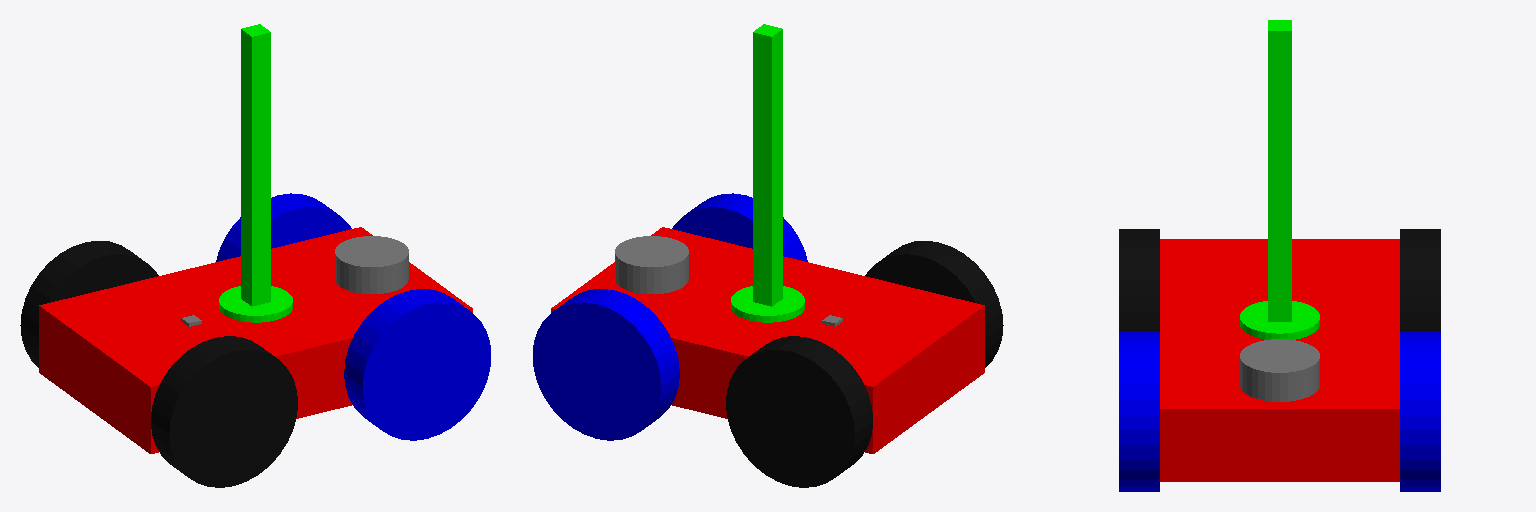
URDF robot description (my_mobile_manipulator):
<?xml version="1.0" ?>
<!-- =================================================================================== -->
<!-- |    This document was autogenerated by xacro from robot.urdf.xacro               | -->
<!-- |    EDITING THIS FILE BY HAND IS NOT RECOMMENDED                                 | -->
<!-- =================================================================================== -->
<robot name="my_mobile_manipulator">
  <link name="base_link"/>
  <link name="base_footprint"/>
  <joint name="base_footprint_joint" type="fixed">
    <parent link="base_footprint"/>
    <child link="base_link"/>
    <origin xyz="0 0 0.1"/>
  </joint>
  <joint name="chassis_joint" type="fixed">
    <parent link="base_link"/>
    <child link="chassis"/>
    <origin xyz="-0.1 0 0"/>
  </joint>
  <link name="chassis">
    <visual>
      <geometry>
        <box size="0.5 0.3 0.1"/>
      </geometry>
      <material name="red">
        <color rgba="1.0 0.0 0.0 1.0"/>
      </material>
    </visual>
    <collision>
      <geometry>
        <box size="0.5 0.3 0.1"/>
      </geometry>
    </collision>
    <inertial>
      <mass value="5.0"/>
      <inertia ixx="0.1" ixy="0" ixz="0" iyy="0.1" iyz="0" izz="0.1"/>
    </inertial>
  </link>
  <joint name="rear_left_wheel_joint" type="continuous">
    <parent link="chassis"/>
    <child link="rear_left_wheel"/>
    <origin rpy="1.5707963267948966 0 0" xyz="-0.15 0.175 0"/>
    <axis xyz="0 0 -1"/>
  </joint>
  <link name="rear_left_wheel">
    <visual>
      <geometry>
        <cylinder length="0.05" radius="0.1"/>
      </geometry>
      <material name="black">
        <color rgba="0.1 0.1 0.1 1.0"/>
      </material>
    </visual>
    <collision>
      <geometry>
        <cylinder length="0.05" radius="0.1"/>
      </geometry>
    </collision>
    <inertial>
      <mass value="0.5"/>
      <inertia ixx="0.001" ixy="0" ixz="0" iyy="0.001" iyz="0" izz="0.001"/>
    </inertial>
  </link>
  <joint name="rear_right_wheel_joint" type="continuous">
    <parent link="chassis"/>
    <child link="rear_right_wheel"/>
    <origin rpy="1.5707963267948966 0 0" xyz="-0.15 -0.175 0"/>
    <axis xyz="0 0 -1"/>
  </joint>
  <link name="rear_right_wheel">
    <visual>
      <geometry>
        <cylinder length="0.05" radius="0.1"/>
      </geometry>
      <material name="black">
        <color rgba="0.1 0.1 0.1 1.0"/>
      </material>
    </visual>
    <collision>
      <geometry>
        <cylinder length="0.05" radius="0.1"/>
      </geometry>
    </collision>
    <inertial>
      <mass value="0.5"/>
      <inertia ixx="0.001" ixy="0" ixz="0" iyy="0.001" iyz="0" izz="0.001"/>
    </inertial>
  </link>
  <joint name="front_left_steer_joint" type="revolute">
    <parent link="chassis"/>
    <child link="front_left_steer_link"/>
    <origin rpy="0 0 0" xyz="0.15 0.175 0"/>
    <axis xyz="0 0 1"/>
    <limit effort="10" lower="-0.5" upper="0.5" velocity="1.0"/>
  </joint>
  <link name="front_left_steer_link">
    <inertial>
      <mass value="0.01"/>
      <inertia ixx="0.0001" ixy="0" ixz="0" iyy="0.0001" iyz="0" izz="0.0001"/>
    </inertial>
  </link>
  <joint name="front_left_wheel_joint" type="continuous">
    <parent link="front_left_steer_link"/>
    <child link="front_left_wheel"/>
    <origin rpy="1.5707963267948966 0 0" xyz="0 0 0"/>
    <axis xyz="0 0 -1"/>
  </joint>
  <link name="front_left_wheel">
    <visual>
      <geometry>
        <cylinder length="0.05" radius="0.1"/>
      </geometry>
      <material name="blue">
        <color rgba="0.0 0.0 1.0 1.0"/>
      </material>
    </visual>
    <collision>
      <geometry>
        <cylinder length="0.05" radius="0.1"/>
      </geometry>
    </collision>
    <inertial>
      <mass value="0.5"/>
      <inertia ixx="0.001" ixy="0" ixz="0" iyy="0.001" iyz="0" izz="0.001"/>
    </inertial>
  </link>
  <joint name="front_right_steer_joint" type="revolute">
    <parent link="chassis"/>
    <child link="front_right_steer_link"/>
    <origin rpy="0 0 0" xyz="0.15 -0.175 0"/>
    <axis xyz="0 0 1"/>
    <limit effort="10" lower="-0.5" upper="0.5" velocity="1.0"/>
  </joint>
  <link name="front_right_steer_link">
    <inertial>
      <mass value="0.01"/>
      <inertia ixx="0.0001" ixy="0" ixz="0" iyy="0.0001" iyz="0" izz="0.0001"/>
    </inertial>
  </link>
  <joint name="front_right_wheel_joint" type="continuous">
    <parent link="front_right_steer_link"/>
    <child link="front_right_wheel"/>
    <origin rpy="1.5707963267948966 0 0" xyz="0 0 0"/>
    <axis xyz="0 0 -1"/>
  </joint>
  <link name="front_right_wheel">
    <visual>
      <geometry>
        <cylinder length="0.05" radius="0.1"/>
      </geometry>
      <material name="blue">
        <color rgba="0.0 0.0 1.0 1.0"/>
      </material>
    </visual>
    <collision>
      <geometry>
        <cylinder length="0.05" radius="0.1"/>
      </geometry>
    </collision>
    <inertial>
      <mass value="0.5"/>
      <inertia ixx="0.001" ixy="0" ixz="0" iyy="0.001" iyz="0" izz="0.001"/>
    </inertial>
  </link>
  <gazebo reference="chassis">
    <material>Gazebo/Red</material>
  </gazebo>
  <gazebo reference="front_left_wheel">
    <material>Gazebo/Blue</material>
  </gazebo>
  <gazebo reference="front_right_wheel">
    <material>Gazebo/Blue</material>
  </gazebo>
  <gazebo reference="rear_left_wheel">
    <material>Gazebo/Black</material>
  </gazebo>
  <gazebo reference="rear_right_wheel">
    <material>Gazebo/Black</material>
  </gazebo>
  <joint name="arm_base_joint" type="fixed">
    <parent link="chassis"/>
    <child link="arm_base"/>
    <origin xyz="0 0 0.05"/>
  </joint>
  <link name="arm_base">
    <visual>
      <geometry>
        <cylinder length="0.02" radius="0.05"/>
      </geometry>
      <material name="green">
        <color rgba="0.0 1.0 0.0 1.0"/>
      </material>
    </visual>
    <collision>
      <geometry>
        <cylinder length="0.02" radius="0.05"/>
      </geometry>
    </collision>
    <inertial>
      <mass value="0.2"/>
      <inertia ixx="0.001" ixy="0" ixz="0" iyy="0.001" iyz="0" izz="0.001"/>
    </inertial>
  </link>
  <joint name="joint1" type="revolute">
    <parent link="arm_base"/>
    <child link="link1"/>
    <origin rpy="0 0 0" xyz="0 0 0.01"/>
    <axis xyz="0 0 1"/>
    <limit effort="10" lower="-3.14" upper="3.14" velocity="1.0"/>
  </joint>
  <link name="link1">
    <visual>
      <origin rpy="0 0 0" xyz="0 0 0.1"/>
      <geometry>
        <box size="0.03 0.03 0.2"/>
      </geometry>
      <material name="green">
        <color rgba="0.0 1.0 0.0 1.0"/>
      </material>
    </visual>
    <collision>
      <origin rpy="0 0 0" xyz="0 0 0.1"/>
      <geometry>
        <box size="0.03 0.03 0.2"/>
      </geometry>
    </collision>
    <inertial>
      <mass value="1.0"/>
      <inertia ixx="0.01" ixy="0" ixz="0" iyy="0.01" iyz="0" izz="0.01"/>
    </inertial>
  </link>
  <joint name="joint2" type="revolute">
    <parent link="link1"/>
    <child link="link2"/>
    <origin rpy="0 0 0" xyz="0 0 0.2"/>
    <axis xyz="0 1 0"/>
    <limit effort="10" lower="-1.57" upper="1.57" velocity="1.0"/>
  </joint>
  <link name="link2">
    <visual>
      <origin rpy="0 0 0" xyz="0 0 0.1"/>
      <geometry>
        <box size="0.03 0.03 0.2"/>
      </geometry>
      <material name="green">
        <color rgba="0.0 1.0 0.0 1.0"/>
      </material>
    </visual>
    <collision>
      <origin rpy="0 0 0" xyz="0 0 0.1"/>
      <geometry>
        <box size="0.03 0.03 0.2"/>
      </geometry>
    </collision>
    <inertial>
      <mass value="0.5"/>
      <inertia ixx="0.005" ixy="0" ixz="0" iyy="0.005" iyz="0" izz="0.005"/>
    </inertial>
  </link>
  <gazebo reference="arm_base">
    <material>Gazebo/Green</material>
  </gazebo>
  <gazebo reference="link1">
    <material>Gazebo/Green</material>
  </gazebo>
  <gazebo reference="link2">
    <material>Gazebo/Green</material>
  </gazebo>
  <joint name="lidar_joint" type="fixed">
    <parent link="chassis"/>
    <child link="lidar_frame"/>
    <origin rpy="0 0 0" xyz="0.18 0 0.07"/>
  </joint>
  <link name="lidar_frame">
    <visual>
      <geometry>
        <cylinder length="0.04" radius="0.05"/>
      </geometry>
      <material name="gray">
        <color rgba="0.5 0.5 0.5 1.0"/>
      </material>
    </visual>
  </link>
  <joint name="imu_joint" type="fixed">
    <parent link="chassis"/>
    <child link="imu_link"/>
    <origin rpy="0 0 0" xyz="-0.1 0 0.05"/>
  </joint>
  <link name="imu_link">
    <visual>
      <geometry>
        <box size="0.02 0.02 0.01"/>
      </geometry>
      <material name="gray">
        <color rgba="0.5 0.5 0.5 1.0"/>
      </material>
    </visual>
  </link>
  <gazebo reference="lidar_frame">
    <material>Gazebo/Gray</material>
  </gazebo>
  <gazebo reference="imu_link">
    <material>Gazebo/Gray</material>
  </gazebo>
</robot>

--- Facts derived from the render (not from the file) ---
3 views of the same robot in one strip: view 1: azimuth 30°, elevation 25°; view 2: azimuth 150°, elevation 25°; view 3: azimuth 270°, elevation 25° (orthographic).
Model my_mobile_manipulator with 14 links and 13 joints (4 revolute, 4 continuous, 5 fixed), rooted at base_footprint, posed all joints at 0.
Visible links, largest first — view 1: chassis, rear_right_wheel, front_right_wheel, rear_left_wheel, link2, link1, lidar_frame, front_left_wheel, arm_base; view 2: chassis, rear_left_wheel, front_left_wheel, rear_right_wheel, link2, link1, lidar_frame, front_right_wheel, arm_base; view 3: chassis, front_left_wheel, front_right_wheel, lidar_frame, rear_left_wheel, rear_right_wheel, link2, link1, arm_base.
Boxes of the visible links, <box> form: chassis: <box>39,227,472,453</box>; rear_right_wheel: <box>151,336,297,487</box>; front_right_wheel: <box>344,289,490,440</box>; rear_left_wheel: <box>20,241,158,367</box>; link2: <box>241,24,270,171</box>; link1: <box>241,164,270,306</box>; lidar_frame: <box>335,236,408,293</box>; front_left_wheel: <box>216,193,351,261</box>; arm_base: <box>219,286,292,322</box>; chassis: <box>551,227,984,453</box>; rear_left_wheel: <box>726,336,872,487</box>; front_left_wheel: <box>533,289,679,440</box>; rear_right_wheel: <box>865,241,1003,367</box>; link2: <box>753,24,782,171</box>; link1: <box>753,164,782,306</box>; lidar_frame: <box>615,236,688,293</box>; front_right_wheel: <box>672,193,807,261</box>; arm_base: <box>731,286,804,322</box>; chassis: <box>1160,239,1399,481</box>; front_left_wheel: <box>1400,331,1440,491</box>; front_right_wheel: <box>1119,331,1159,491</box>; lidar_frame: <box>1240,339,1319,401</box>; rear_left_wheel: <box>1400,229,1440,330</box>; rear_right_wheel: <box>1119,229,1159,330</box>; link2: <box>1268,20,1291,175</box>; link1: <box>1268,176,1291,321</box>; arm_base: <box>1240,301,1319,339</box>.
Bounding box of the posed robot: 0.5 × 0.4 × 0.56 m (x, y, z).
Geometry: primitives only (box / cylinder / sphere), no mesh files.
